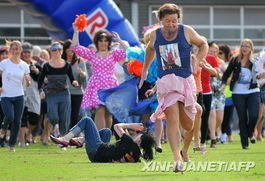10+: (6, 9, 263, 147)
down: (46, 116, 163, 164)
